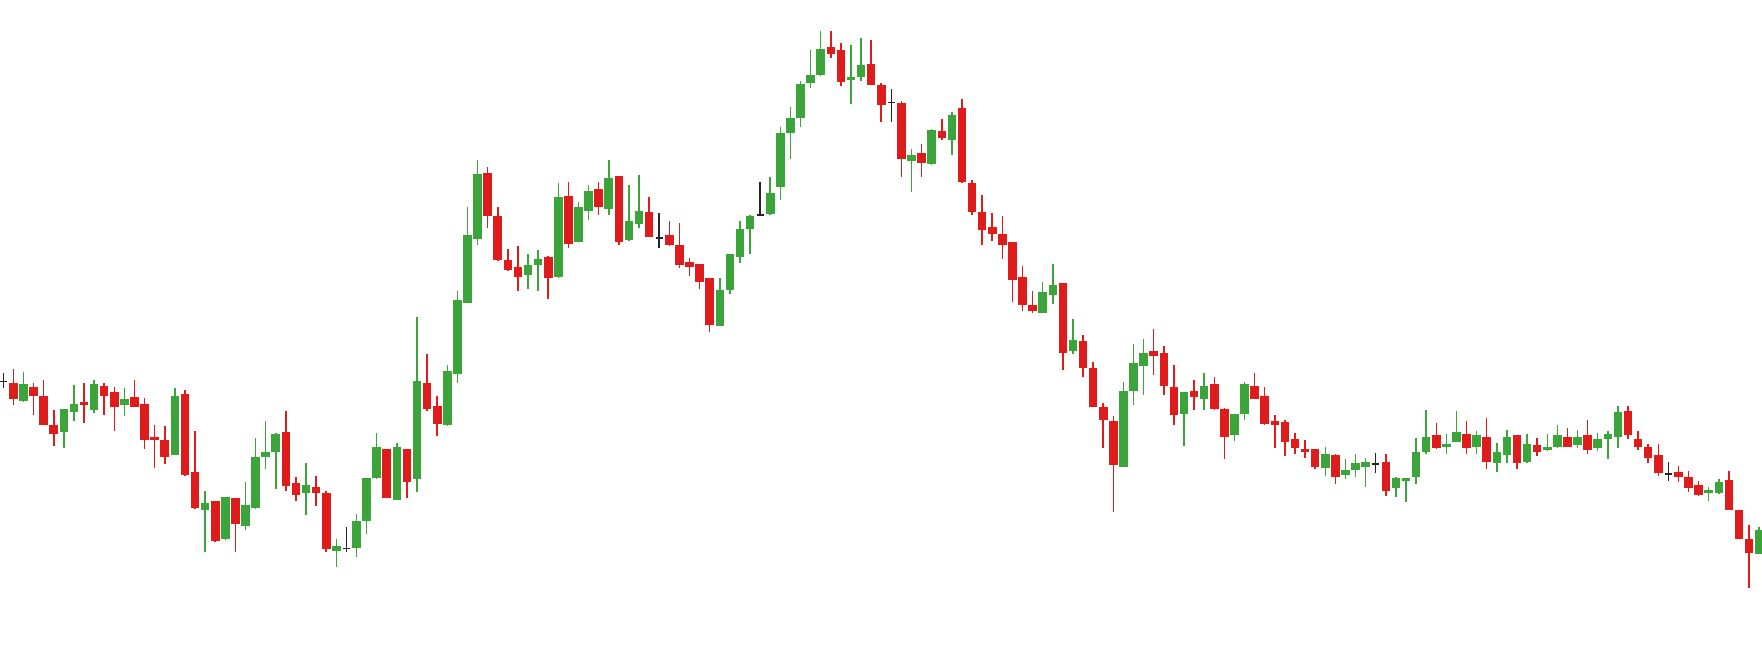buy: (532, 211, 724, 338)
